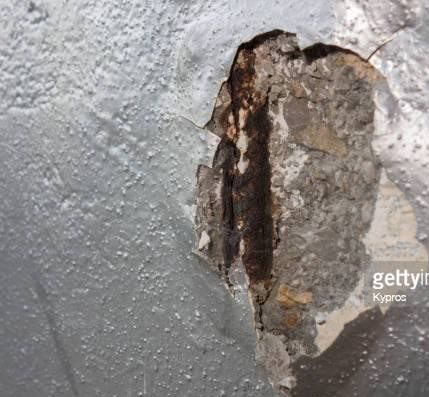Exposed reinforcement: (220, 49, 274, 285)
Spalling: (189, 27, 429, 366)
